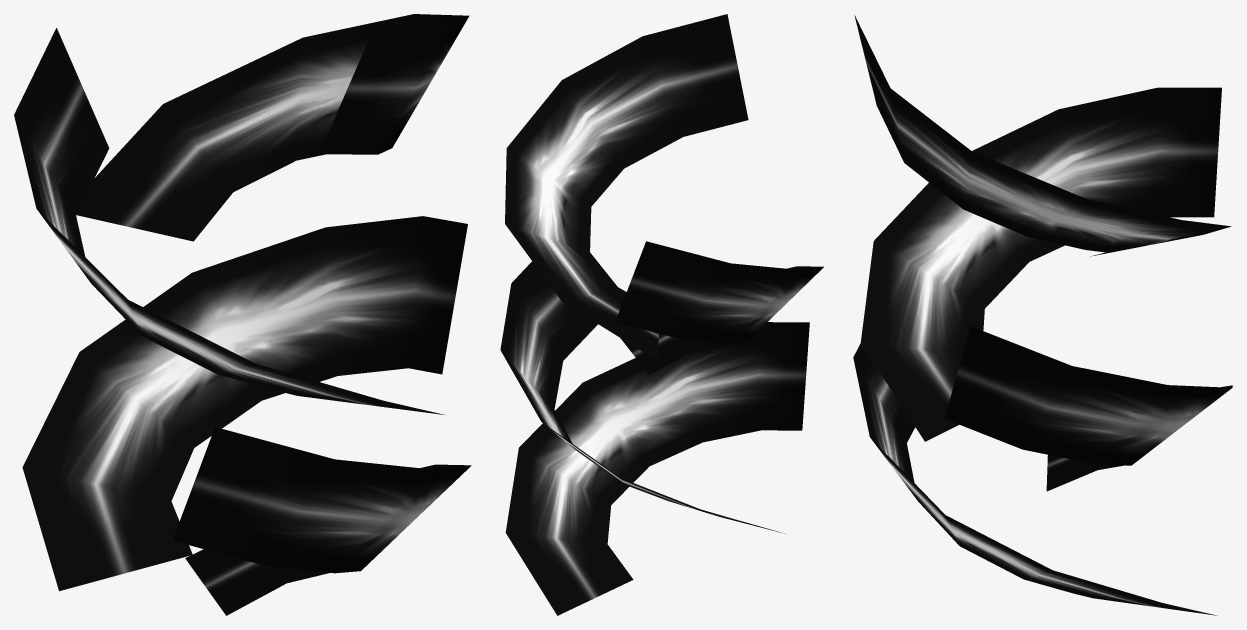
Rendered from trail_104.FBX.
The picture shows the model from 3 angles, left to right: view 1: azimuth 30°, elevation 25°; view 2: azimuth 150°, elevation 25°; view 3: azimuth 270°, elevation 25°; orthographic projection. The views are drawn at different scales.
Parts seen in each view (by area): view 1: trail_104; view 2: trail_104; view 3: trail_104.
Boxes of the visible parts, <box> form: trail_104: <box>14,14,471,615</box>; trail_104: <box>500,14,823,615</box>; trail_104: <box>853,15,1232,615</box>.
Bounding box in the file's own units: 11.26 × 18.96 × 11.02.
